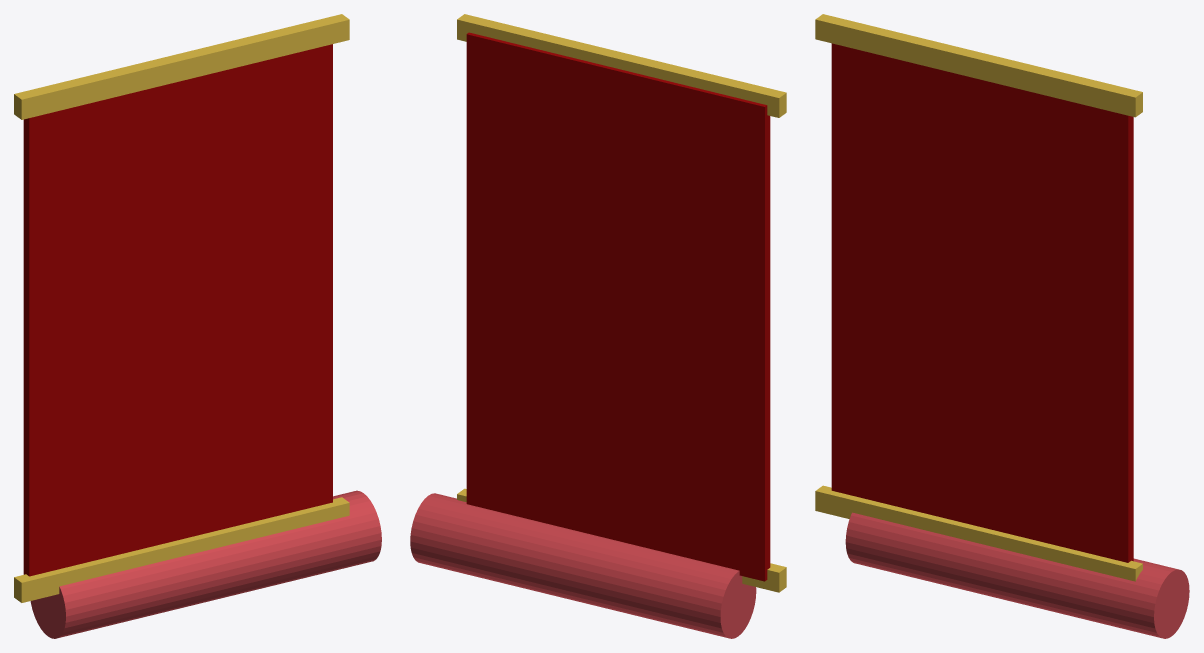
Rendered from obstacle_rug_pull_carpet.glb.
3 renders of one model, left to right at view 1: azimuth 30°, elevation 25°; view 2: azimuth 150°, elevation 25°; view 3: azimuth 330°, elevation 25°, orthographic. The views are drawn at different scales.
Visible parts, largest first — view 1: rug_flat, rolled_edge, rug_trim2, rug_trim1; view 2: rug_flat, rolled_edge, rug_trim2, rug_trim1; view 3: rug_flat, rolled_edge, rug_trim2, rug_trim1.
Part boxes in pixels (<box>): rug_flat: <box>23,44,332,576</box>; rolled_edge: <box>30,490,381,638</box>; rug_trim2: <box>14,14,349,119</box>; rug_trim1: <box>14,497,349,602</box>; rug_flat: <box>466,32,770,581</box>; rolled_edge: <box>410,493,756,638</box>; rug_trim2: <box>457,14,786,117</box>; rug_trim1: <box>457,488,786,592</box>; rug_flat: <box>831,43,1133,562</box>; rolled_edge: <box>845,512,1189,638</box>; rug_trim2: <box>815,14,1142,117</box>; rug_trim1: <box>815,485,1142,581</box>.
Size of the model in its own units: 1.45 by 2.18 by 0.26.
